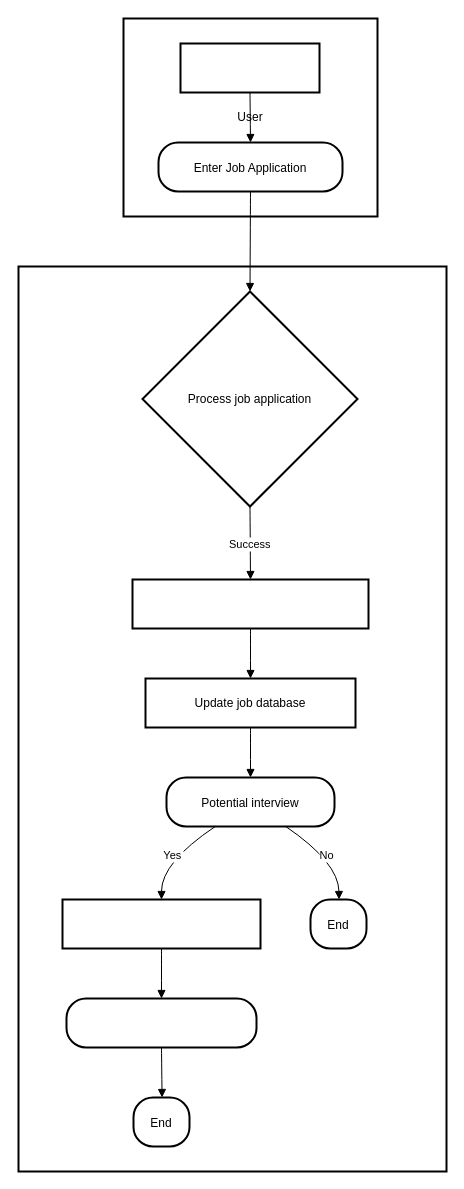
Image size: 464x1189. Some labels were removed from this diagram. The centre of each missing label's shape, as x and y in pixels:
"Home Page" belongs at (x=249, y=67).
"Schedule interview" belongs at (x=161, y=923).
"Send confirmation email" belongs at (x=250, y=603).
"Send interview details" belongs at (x=161, y=1022).
